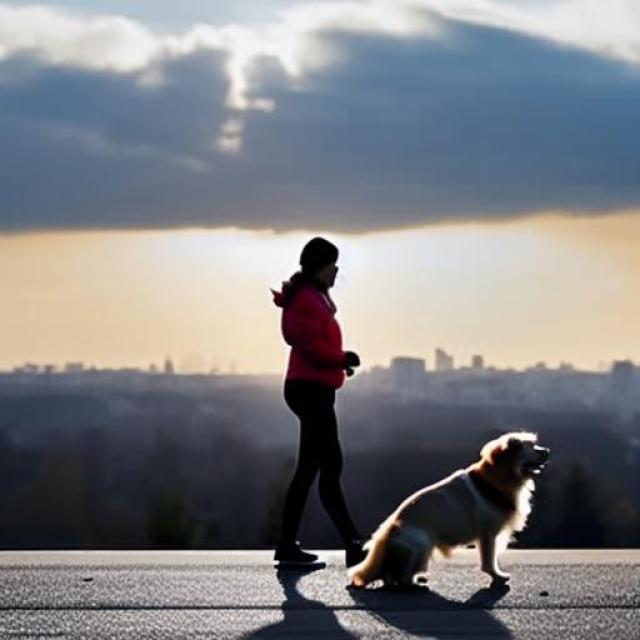Unleashed_Dog: (286, 378, 552, 589)
